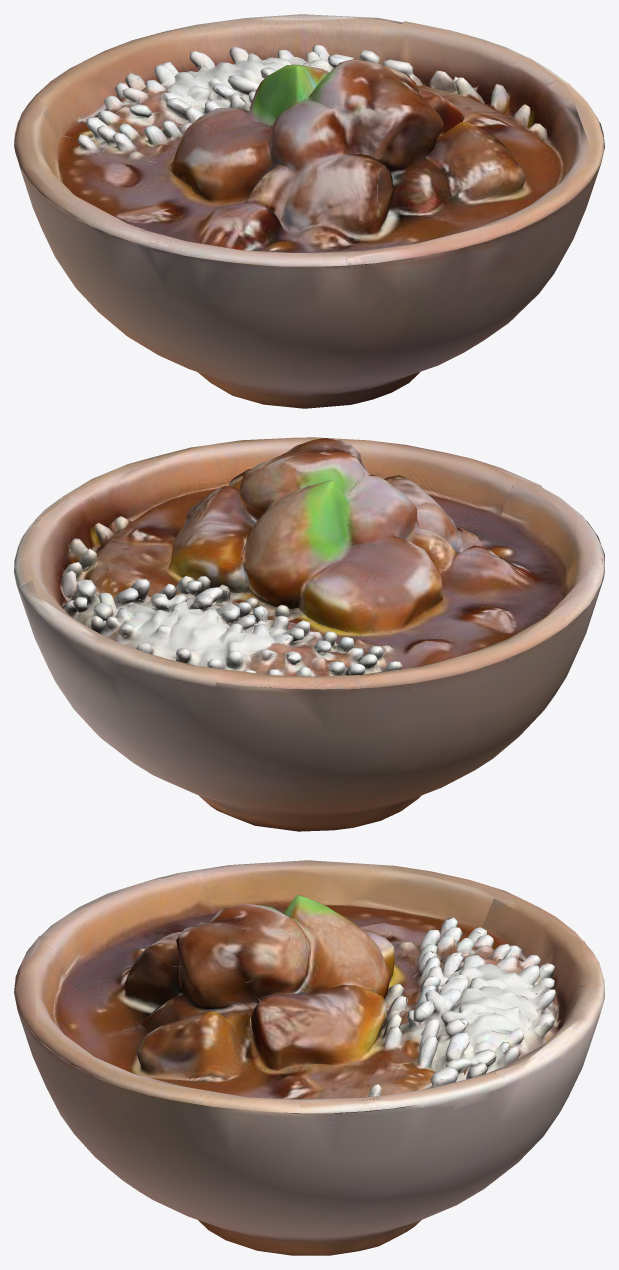
Rendered from rendang.glb.
The picture shows the model from 3 angles, top to bottom: view 1: azimuth 30°, elevation 25°; view 2: azimuth 150°, elevation 25°; view 3: azimuth 270°, elevation 25°; orthographic projection.
Parts seen in each view (by area): view 1: rendang; view 2: rendang; view 3: rendang.
Boxes of the visible parts, left/top/right/bottom form: rendang: left=14, top=14, right=604, bottom=408; rendang: left=14, top=437, right=604, bottom=831; rendang: left=14, top=860, right=604, bottom=1255.
Bounding box in the file's own units: 0.421 × 0.2482 × 0.4205.
1 material, 1 textured.
